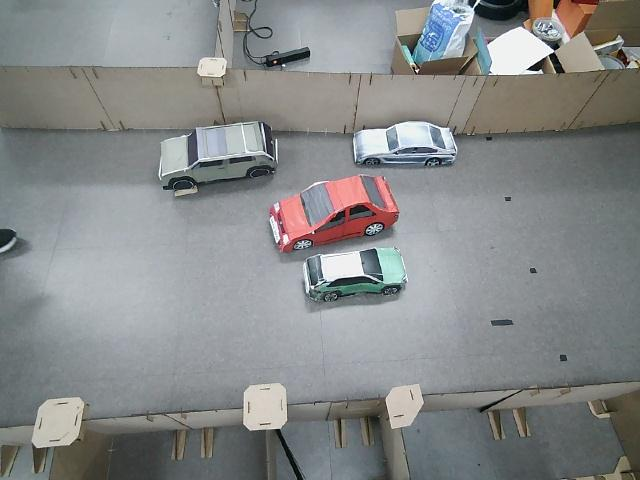car: (264, 171, 407, 254), (152, 119, 286, 194), (295, 238, 412, 307), (343, 122, 466, 171)
